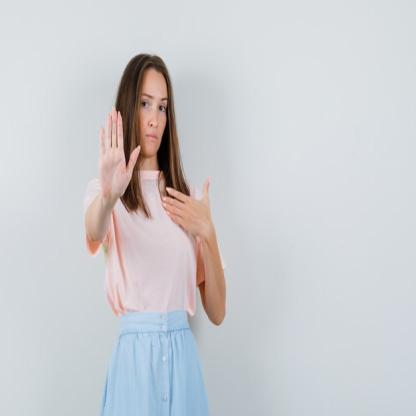stop: (98, 103, 142, 207)
